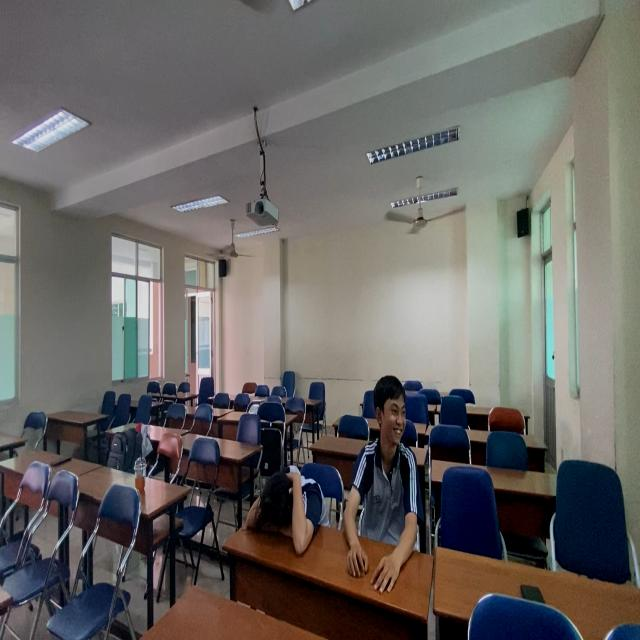sleep: (239, 457, 330, 552)
